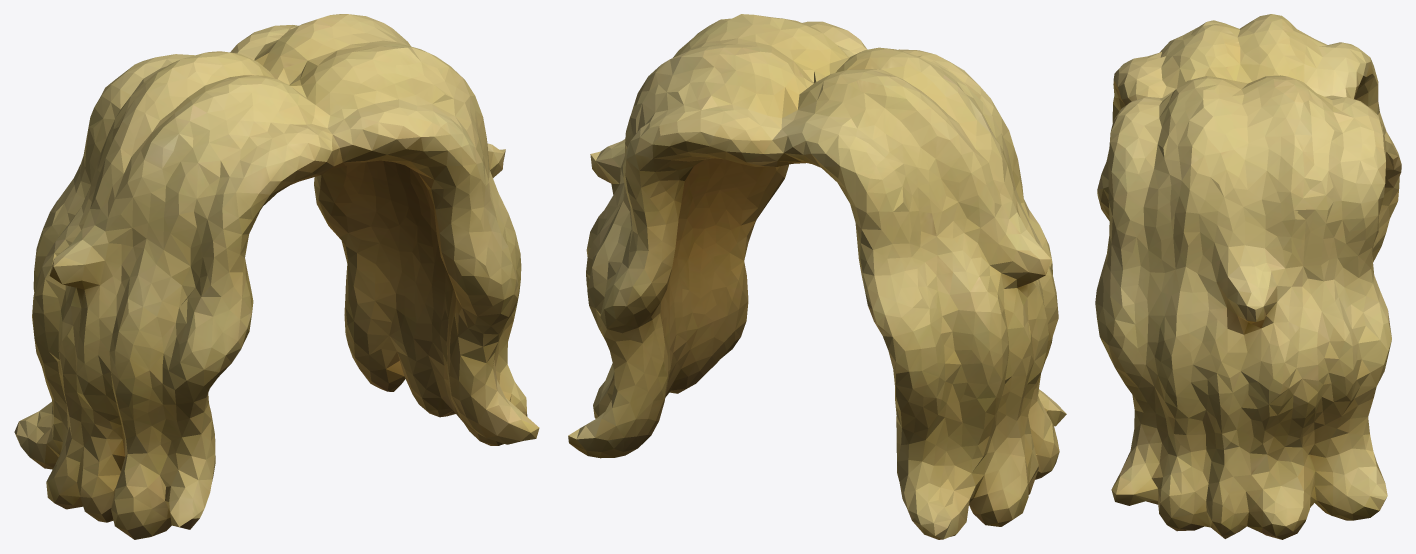
The model's file is hairstyle_020.glb.
3 renders of one model, left to right at view 1: azimuth 30°, elevation 25°; view 2: azimuth 150°, elevation 25°; view 3: azimuth 270°, elevation 25°, orthographic. The views are drawn at different scales.
Parts seen in each view (by area): view 1: geometry_0_020; view 2: geometry_0_020; view 3: geometry_0_020.
Part boxes in pixels (left/top/right/bottom): geometry_0_020: left=14, top=14, right=539, bottom=539; geometry_0_020: left=568, top=14, right=1066, bottom=539; geometry_0_020: left=1095, top=14, right=1401, bottom=539.
Size of the model in its own units: 1.4 by 1.23 by 0.8546.
1 material, 1 textured.
